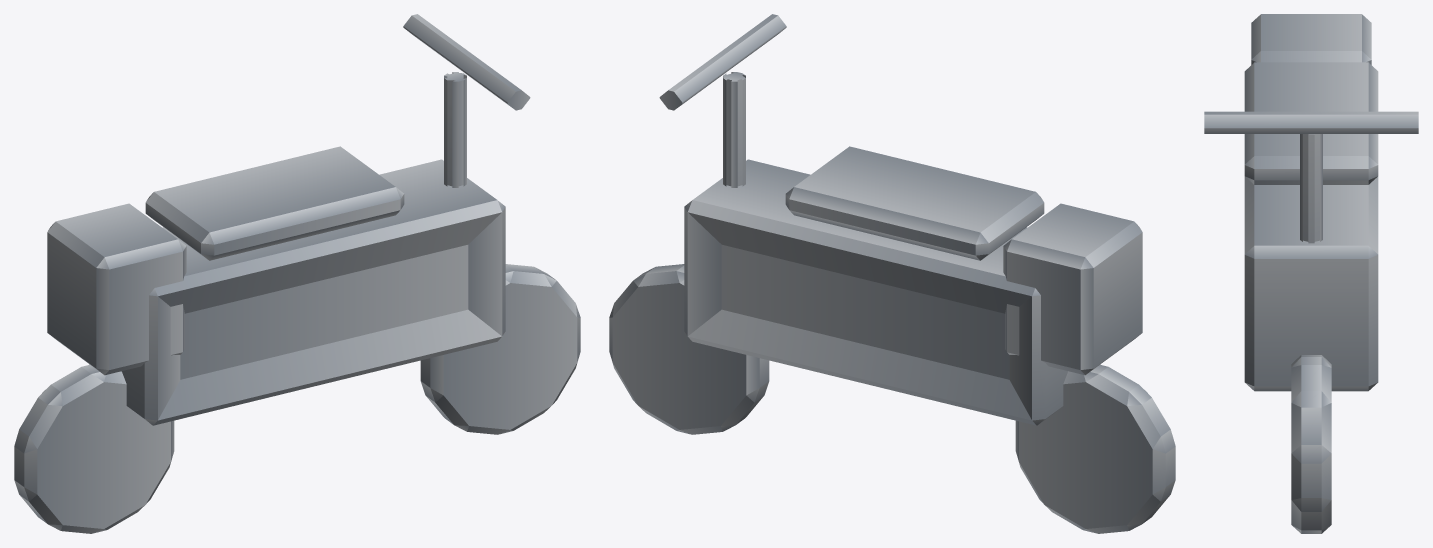
File: dt_moped.fbx
The picture shows the model from 3 angles, left to right: view 1: azimuth 30°, elevation 25°; view 2: azimuth 150°, elevation 25°; view 3: azimuth 270°, elevation 25°; orthographic projection. The views are drawn at different scales.
Parts seen in each view (by area): view 1: dt_moped; view 2: dt_moped; view 3: dt_moped.
Boxes of the visible parts, left/top/right/bottom form: dt_moped: left=14, top=14, right=580, bottom=533; dt_moped: left=609, top=14, right=1175, bottom=533; dt_moped: left=1204, top=14, right=1418, bottom=533.
Size of the model in its own units: 600 by 396 by 195.
